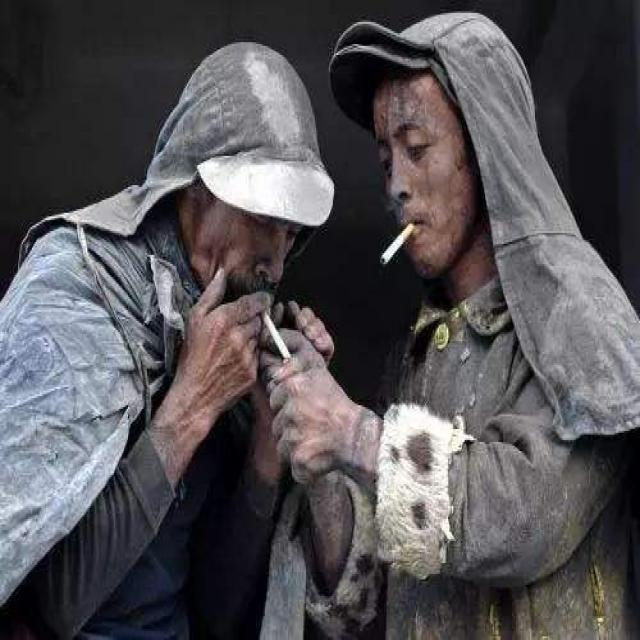smoke: (379, 222, 416, 267), (261, 312, 291, 362)
